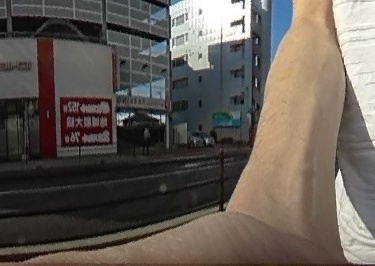person: (141, 124, 150, 154)
